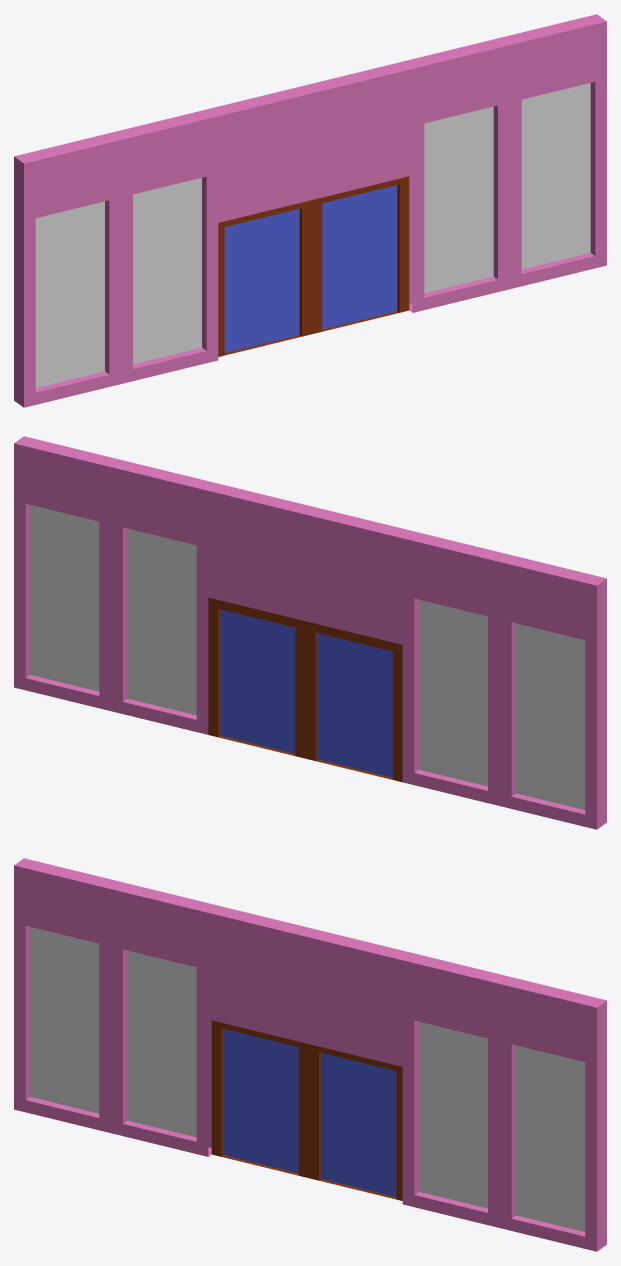
File: Wall01.fbx
3 views of the same model, one above another, from view 1: azimuth 30°, elevation 25°; view 2: azimuth 150°, elevation 25°; view 3: azimuth 330°, elevation 25° (orthographic).
Visible parts, largest first — view 1: Wall, DoorL, DoorR; view 2: Wall, DoorL, DoorR; view 3: Wall, DoorR, DoorL.
Part boxes in pixels (left/top/right/bottom): Wall: left=14, top=14, right=606, bottom=407; DoorL: left=312, top=176, right=409, bottom=333; DoorR: left=218, top=200, right=311, bottom=356; Wall: left=14, top=436, right=606, bottom=829; DoorL: left=208, top=597, right=305, bottom=758; DoorR: left=305, top=621, right=402, bottom=782; Wall: left=14, top=858, right=606, bottom=1251; DoorR: left=211, top=1020, right=308, bottom=1177; DoorL: left=309, top=1044, right=402, bottom=1200.
Bounding box in the file's own units: 3380 × 1352 × 100.
